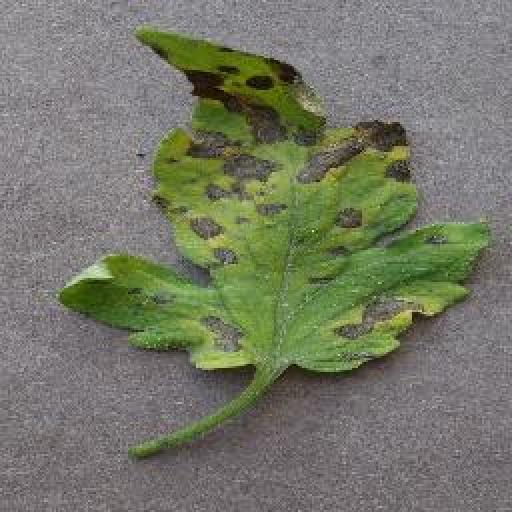Early Blight: (63, 31, 492, 380)
